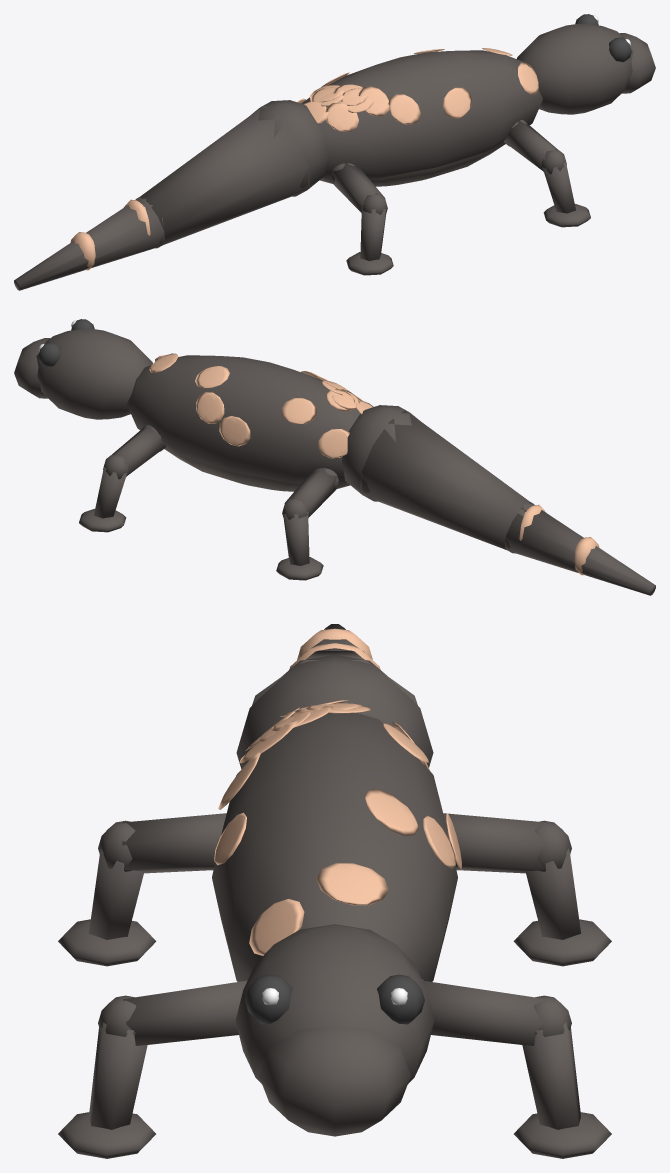
File: gila-monster.glb
3 views of the same model, one above another, from view 1: azimuth 30°, elevation 25°; view 2: azimuth 150°, elevation 25°; view 3: azimuth 270°, elevation 25° (orthographic). The views are drawn at different scales.
Parts seen in each view (by area): view 1: e, e.024, e.018, e.041, e.031; view 2: e, e.024, e.018, e.046, e.036; view 3: e, e.018, e.031, e.036, e.041, e.046, e.024.
Boxes of the visible parts, bbox=[...] form: e: bbox=[297, 48, 542, 186]; e.024: bbox=[14, 100, 327, 290]; e.018: bbox=[517, 14, 655, 114]; e.041: bbox=[331, 163, 393, 275]; e.031: bbox=[503, 120, 590, 227]; e: bbox=[127, 353, 373, 491]; e.024: bbox=[342, 405, 655, 595]; e.018: bbox=[14, 319, 152, 419]; e.046: bbox=[276, 468, 338, 580]; e.036: bbox=[79, 425, 166, 532]; e: bbox=[212, 700, 461, 981]; e.018: bbox=[235, 924, 434, 1136]; e.031: bbox=[58, 978, 248, 1158]; e.036: bbox=[421, 978, 611, 1158]; e.041: bbox=[58, 813, 226, 966]; e.046: bbox=[443, 813, 611, 966]; e.024: bbox=[236, 624, 433, 769].
Size of the model in its own units: 1.07 by 0.2348 by 0.405.
